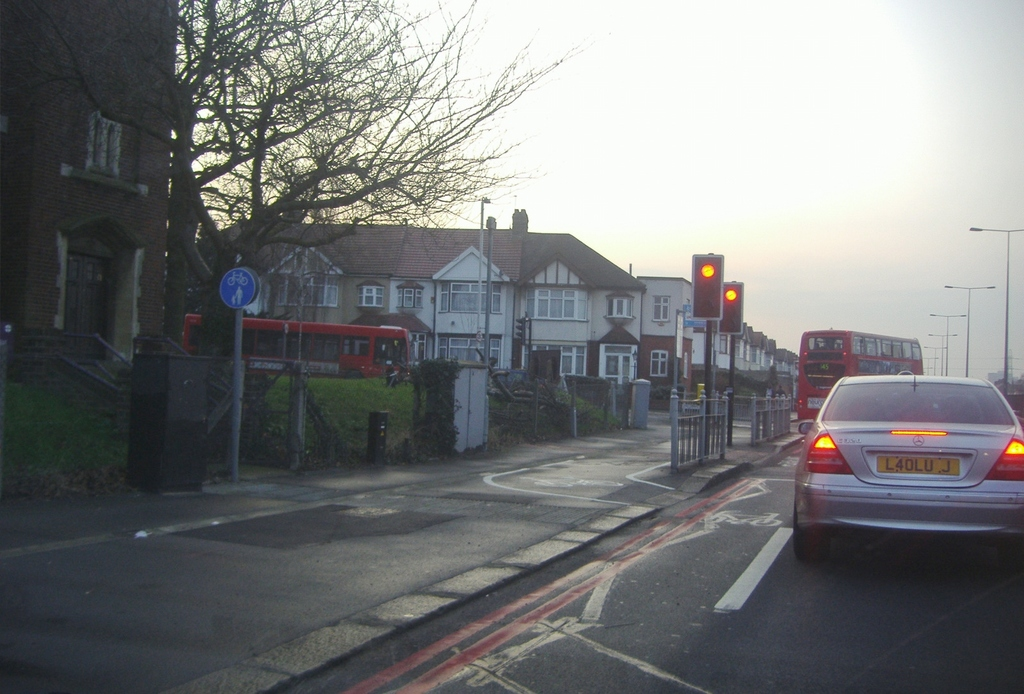license plate: (876, 452, 960, 475)
